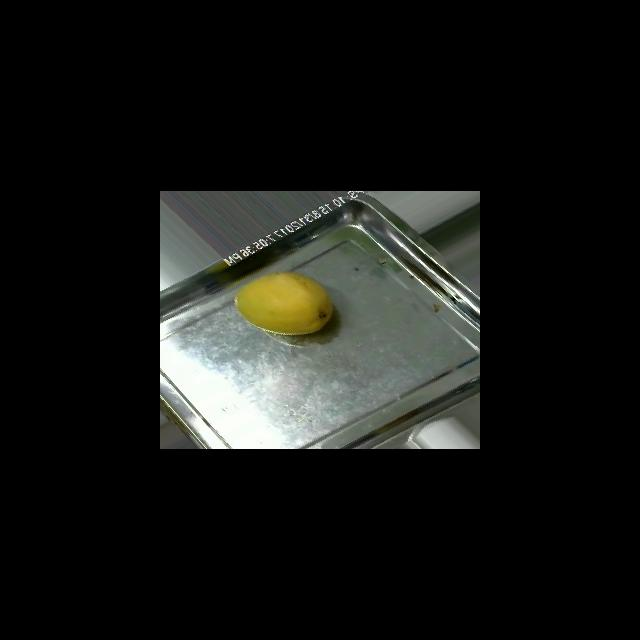Mango: (234, 270, 333, 335)
